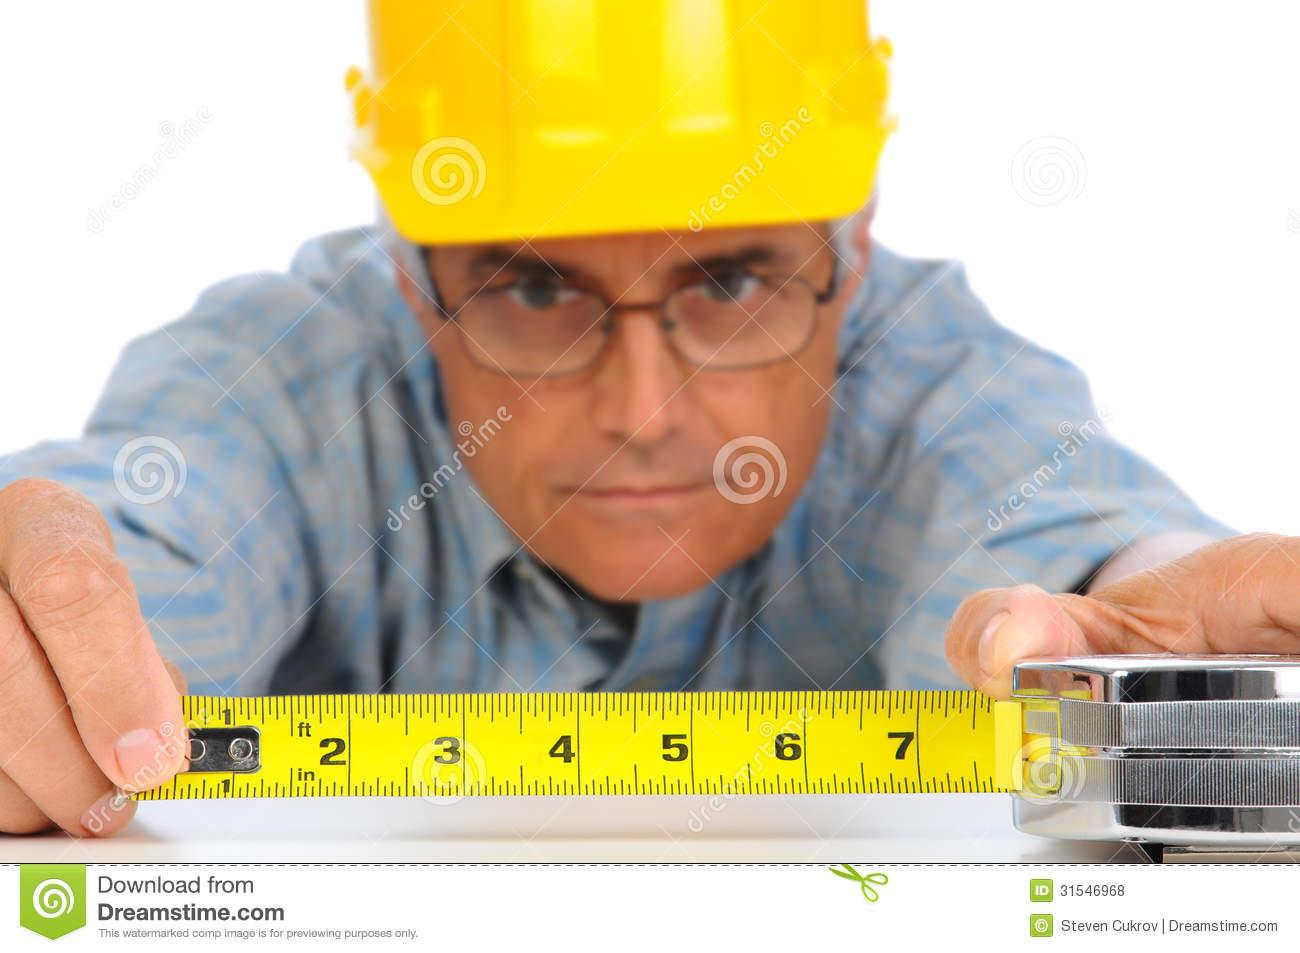helmet: (346, 1, 903, 253)
